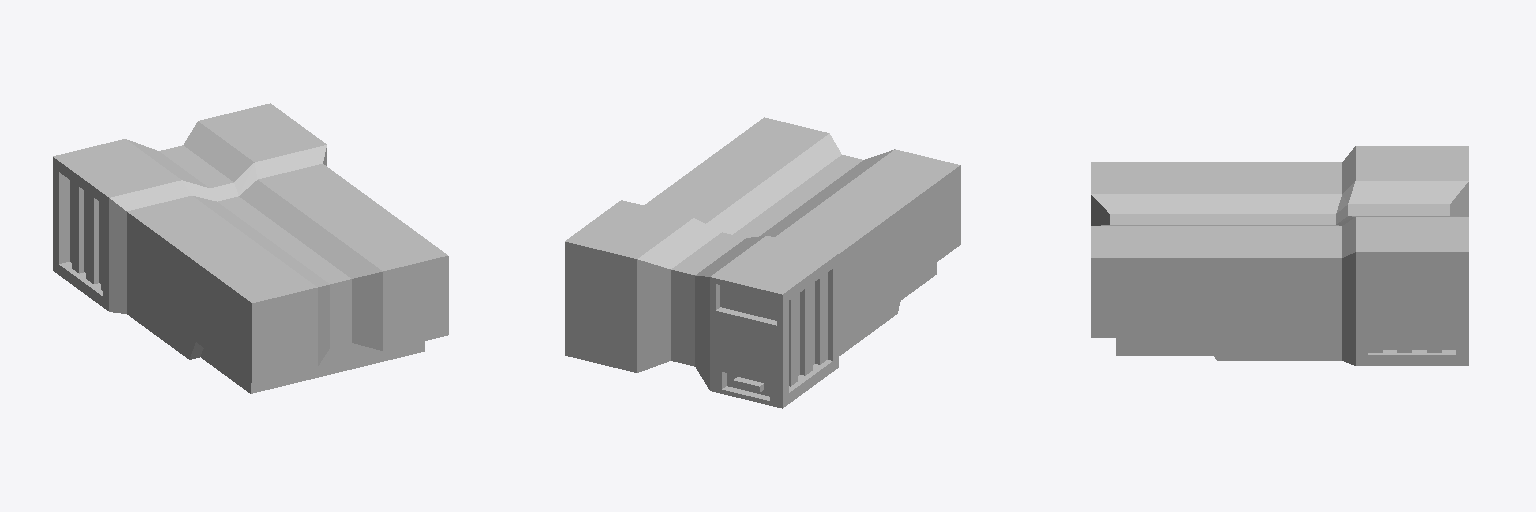
Rendered from HDD.obj.
The picture shows the model from 3 angles: view 1: azimuth 30°, elevation 25°; view 2: azimuth 150°, elevation 25°; view 3: azimuth 270°, elevation 25°; orthographic projection.
Visible parts, largest first — view 1: Cube; view 2: Cube; view 3: Cube.
Boxes of the visible parts, <box> form: Cube: <box>53,103,448,393</box>; Cube: <box>565,117,960,408</box>; Cube: <box>1091,146,1468,365</box>.
Size of the model in its own units: 2 by 1 by 3.